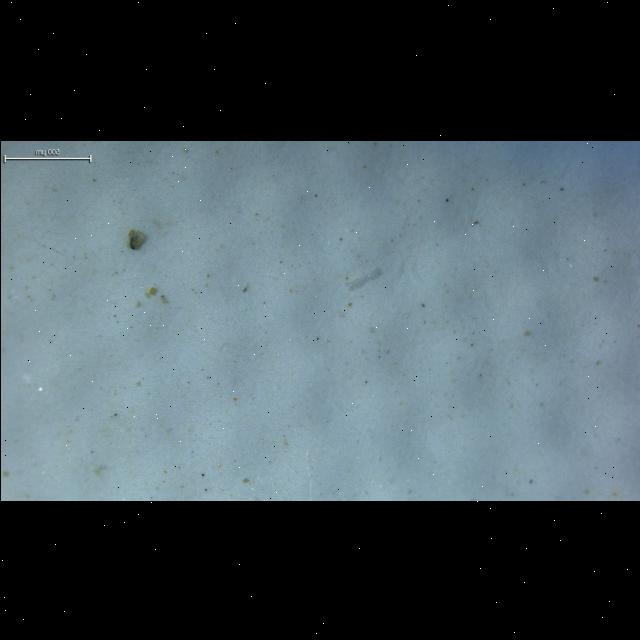Fibre: (345, 267, 381, 290)
Fragment: (127, 228, 146, 249)
